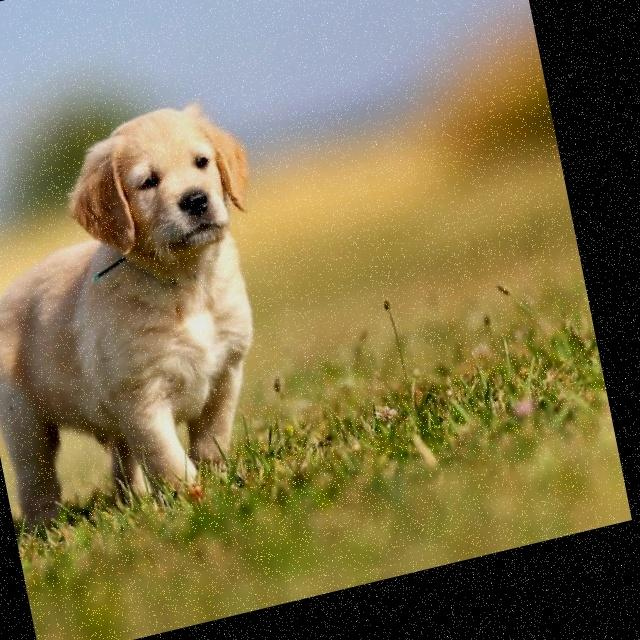dog: (0, 74, 332, 550)
